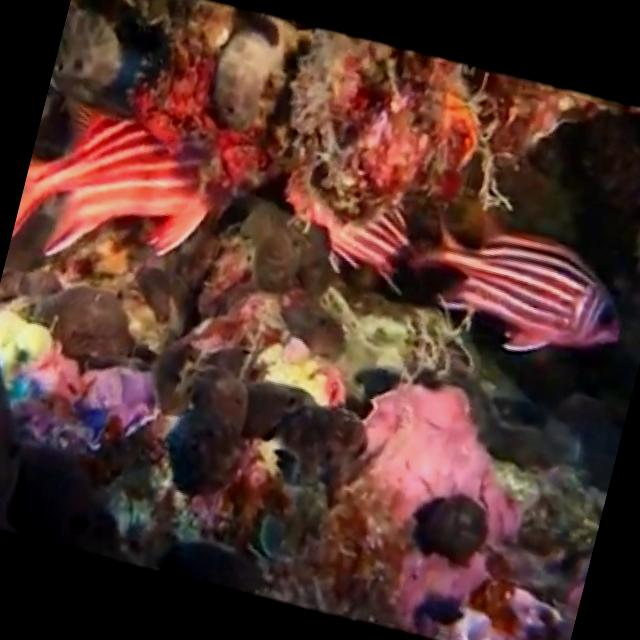Asker Baligi: (398, 200, 639, 378)
